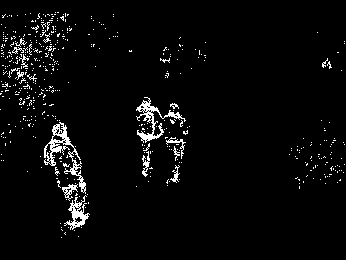person: (42, 121, 91, 231), (160, 100, 189, 186), (137, 96, 164, 178)
